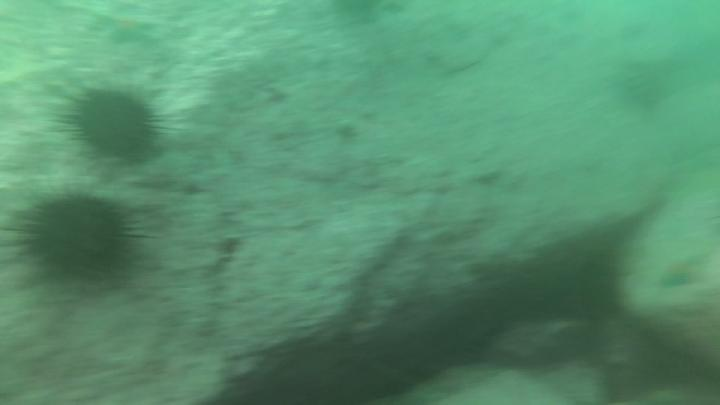echinus: (1, 185, 152, 296), (54, 82, 167, 176)
starfish: (655, 249, 714, 293)
